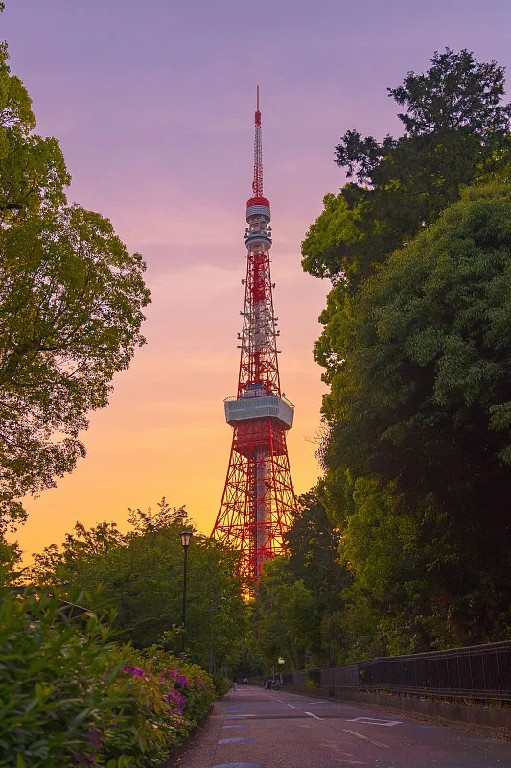Tokyo: (203, 82, 311, 606)
